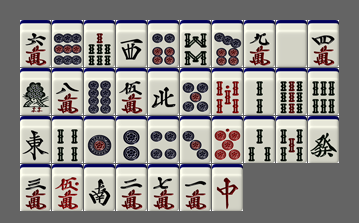0m: (52, 164, 83, 211)
0p: (212, 116, 243, 163)
0s: (212, 68, 243, 115)
1m: (180, 164, 211, 211)
1p: (84, 116, 115, 163)
1s: (20, 68, 51, 115)
1z: (20, 116, 51, 163)
2m: (116, 164, 147, 211)
2p: (116, 116, 147, 163)
2s: (244, 68, 275, 115)
2z: (84, 164, 115, 211)
3m: (20, 164, 51, 211)
3p: (180, 116, 211, 163)
3s: (244, 116, 275, 163)
3z: (116, 20, 147, 67)
4m: (308, 20, 339, 67)
4p: (148, 116, 179, 163)
4s: (52, 116, 83, 163)
4z: (148, 68, 179, 115)
5m: (116, 68, 147, 115)
5p: (180, 68, 211, 115)
5s: (276, 116, 307, 163)
5z: (276, 20, 307, 67)
6m: (20, 20, 51, 67)
6p: (148, 20, 179, 67)
6s: (308, 68, 339, 115)
6z: (308, 116, 339, 163)
7m: (148, 164, 179, 211)
7p: (212, 20, 243, 67)
7s: (84, 20, 115, 67)
7z: (212, 164, 243, 211)
8m: (52, 68, 83, 115)
8p: (84, 68, 115, 115)
8s: (180, 20, 211, 67)
9m: (244, 20, 275, 67)
9p: (52, 20, 83, 67)
9s: (276, 68, 307, 115)
